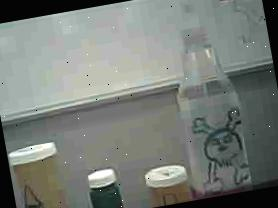Bottle A: (5, 134, 78, 208)
Bottle B: (139, 157, 193, 208)
Bottle C: (82, 165, 129, 208)
hazard: (157, 0, 263, 200)
